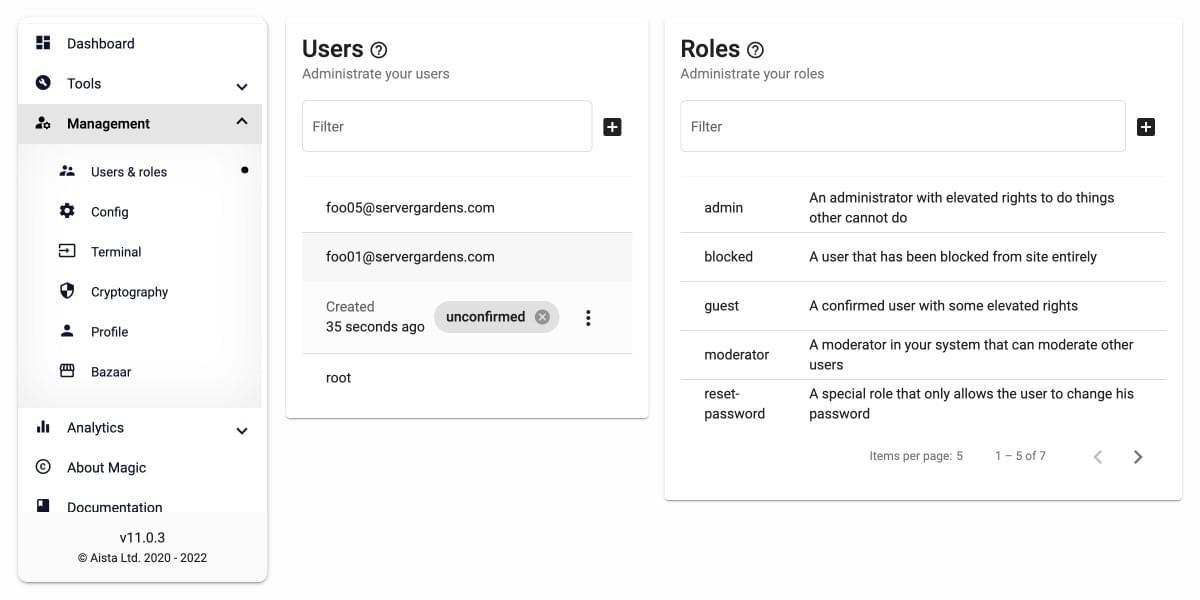button: (433, 299, 562, 336), (1138, 117, 1158, 139), (604, 118, 624, 138), (1135, 450, 1144, 465), (1095, 450, 1103, 466)
icon: (579, 308, 600, 332), (36, 34, 54, 52), (35, 116, 53, 131), (59, 244, 77, 259), (36, 459, 52, 475), (60, 204, 76, 219), (61, 283, 76, 299), (60, 364, 76, 379), (36, 77, 53, 91), (59, 165, 77, 178), (37, 421, 51, 434), (37, 500, 51, 513), (62, 325, 75, 338)
input: (679, 99, 1129, 156), (302, 99, 595, 156)
label: (67, 461, 148, 478), (68, 502, 164, 515), (93, 286, 171, 301), (92, 166, 169, 179), (68, 37, 137, 51), (91, 245, 144, 260), (92, 206, 130, 221), (91, 366, 133, 379), (91, 326, 130, 339)
